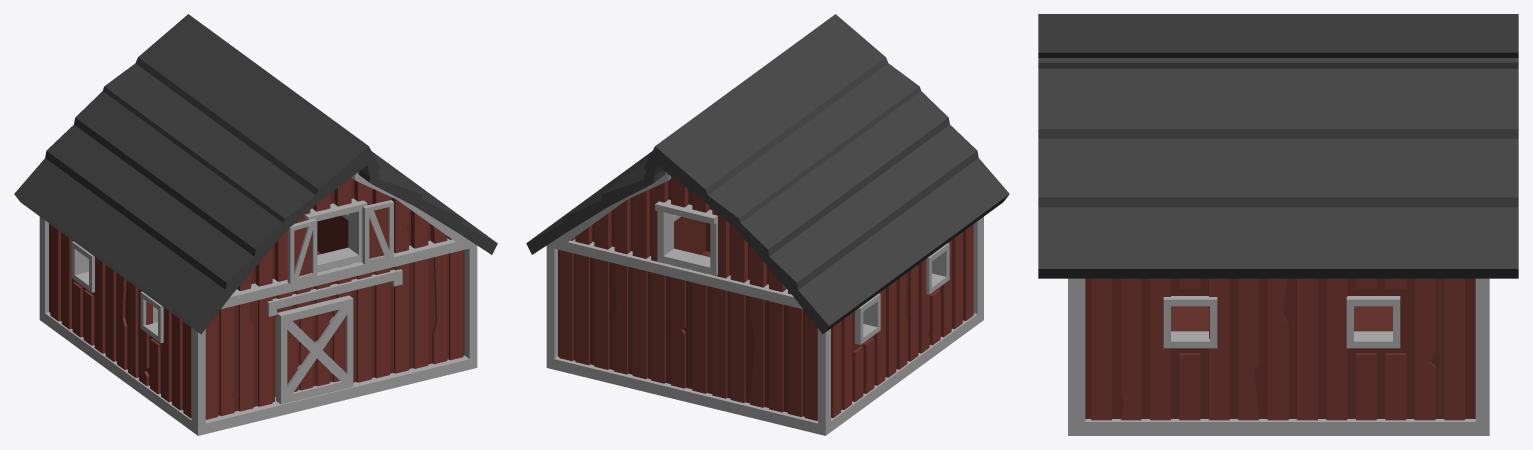
File: SmallBarn.glb
The picture shows the model from 3 angles, left to right: view 1: azimuth 30°, elevation 25°; view 2: azimuth 150°, elevation 25°; view 3: azimuth 270°, elevation 25°; orthographic projection. The views are drawn at different scales.
Parts seen in each view (by area): view 1: SmallBarn_Body; view 2: SmallBarn_Body; view 3: SmallBarn_Body.
Boxes of the visible parts, x1=… form: SmallBarn_Body: x1=14, y1=14, x2=497, y2=435; SmallBarn_Body: x1=526, y1=14, x2=1009, y2=435; SmallBarn_Body: x1=1038, y1=14, x2=1518, y2=435.
Bounding box in the file's own units: 6.08 × 4.96 × 6.27.
